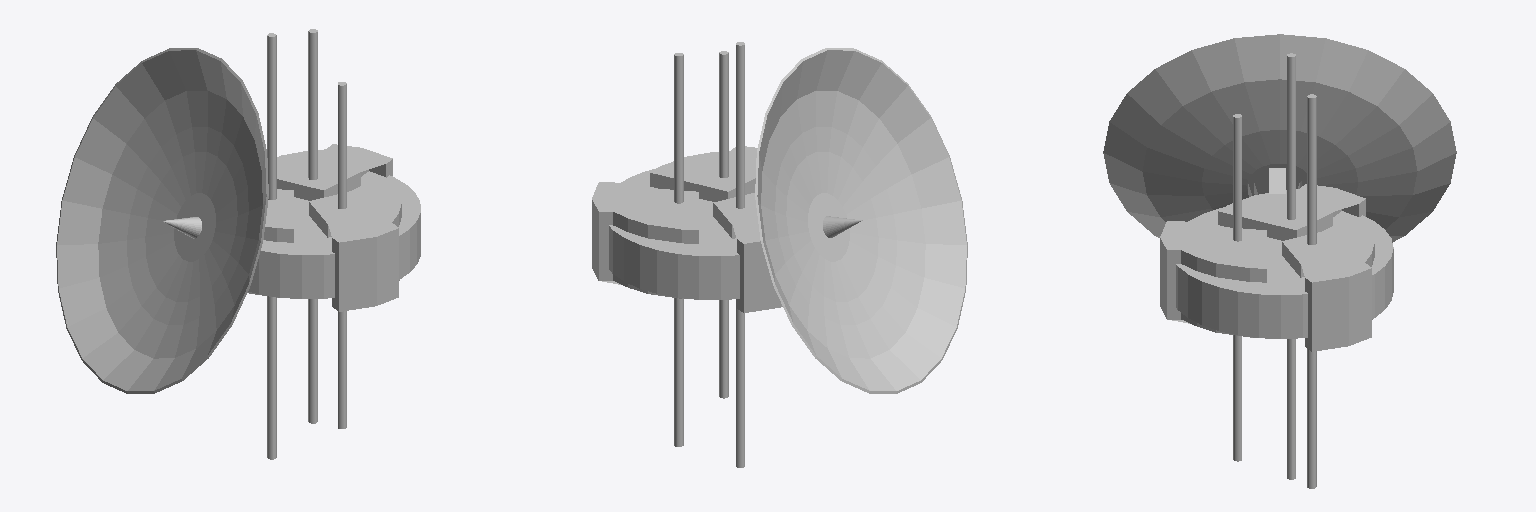
File: Pirate Radar Station model.obj
3 renders of one model, left to right at view 1: azimuth 30°, elevation 25°; view 2: azimuth 150°, elevation 25°; view 3: azimuth 270°, elevation 25°, orthographic.
Size of the model in its own units: 514 by 677 by 513.